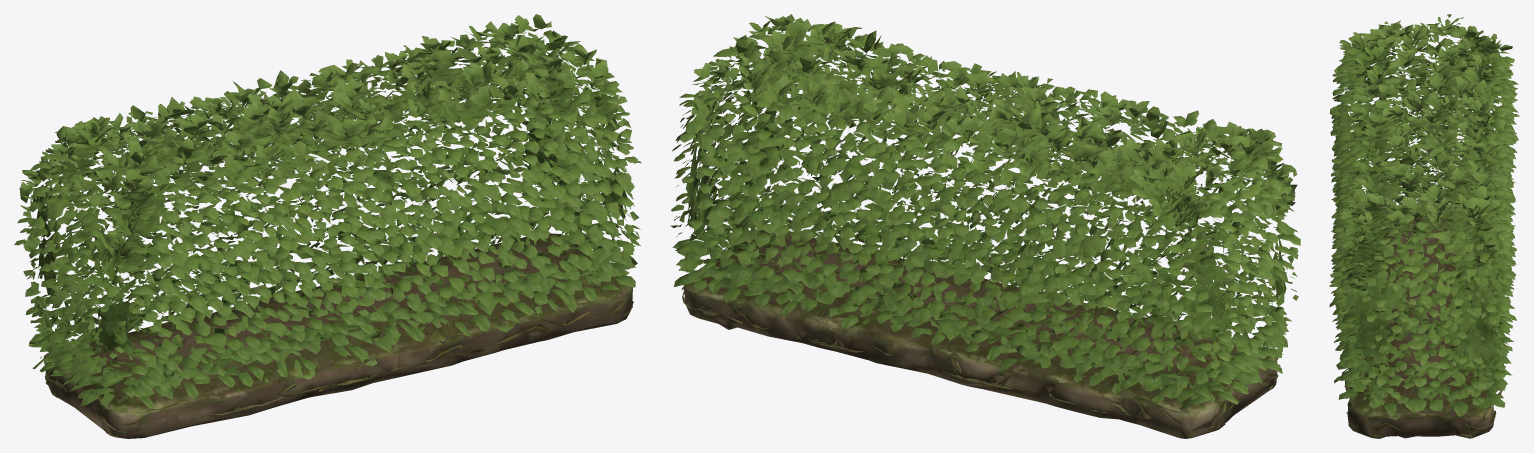
Rendered from nature_hedge_t1_box.glb.
3 views of the same model, side by side, from view 1: azimuth 30°, elevation 25°; view 2: azimuth 150°, elevation 25°; view 3: azimuth 270°, elevation 25° (orthographic). The views are drawn at different scales.
Parts seen in each view (by area): view 1: world; view 2: world; view 3: world.
Part boxes in pixels (x1,y1,x2,y2): world: [14, 14, 641, 438]; world: [670, 14, 1300, 438]; world: [1329, 14, 1519, 438].
Bounding box in the file's own units: 2 × 0.9313 × 0.7134.
Materials: 1 (1 with a texture image).
